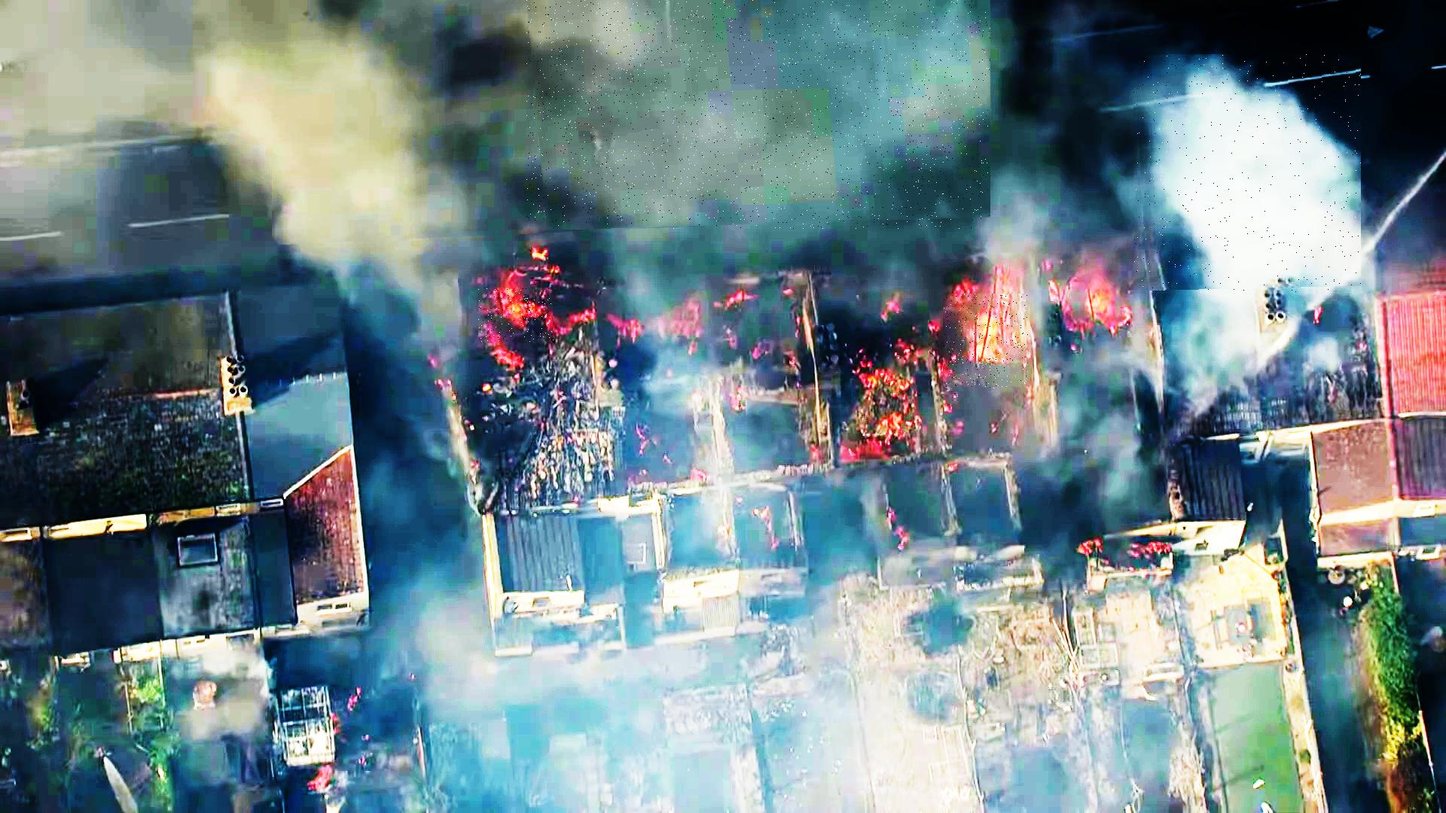fire: (943, 294, 1029, 389), (479, 288, 555, 342)
smoke: (272, 0, 757, 245), (526, 0, 990, 230), (1134, 55, 1361, 293)
